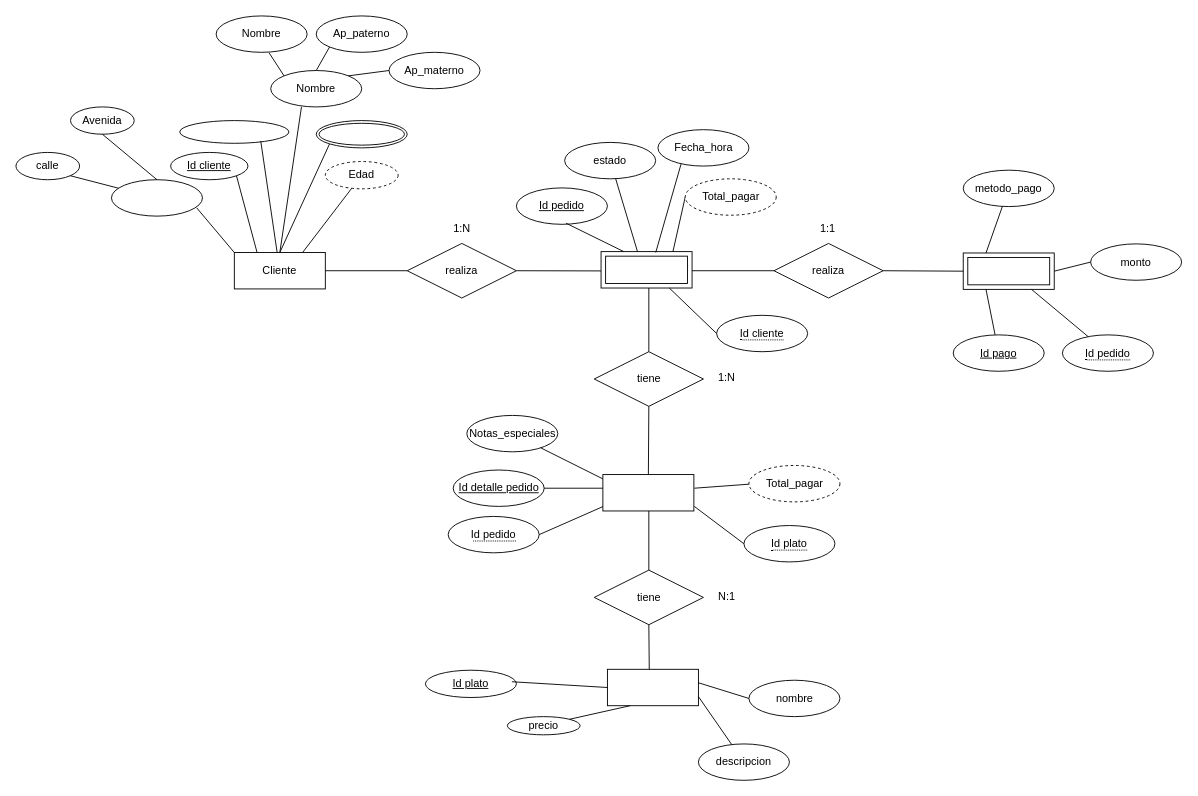
Some shapes in this 1198 by 796 pixel diagram are drawn without their labels. The centre of each missing label's shape, as x and y in pixels:
Detalle_pedido: point 648,492
Fecha_nacimiento: point 234,131
Pago: point 1008,270
Pedido: point 646,269
Plato: point 652,687
telefono: point 361,134
ubicacion: point 156,197
